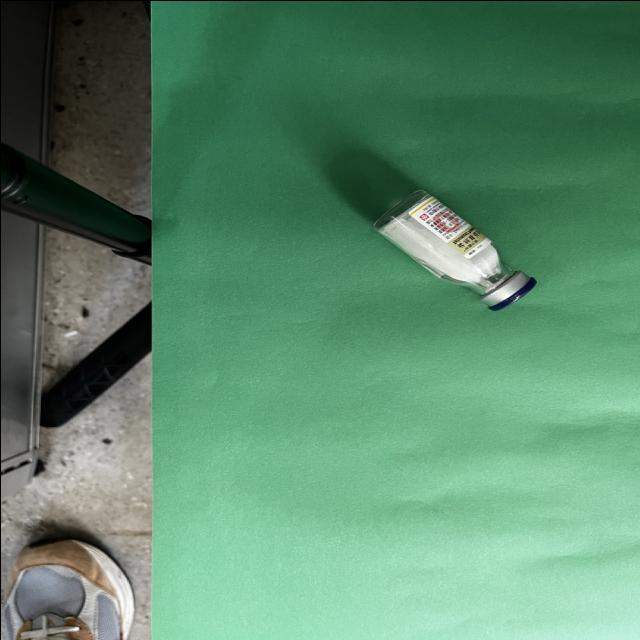Vials: (373, 190, 535, 310)
